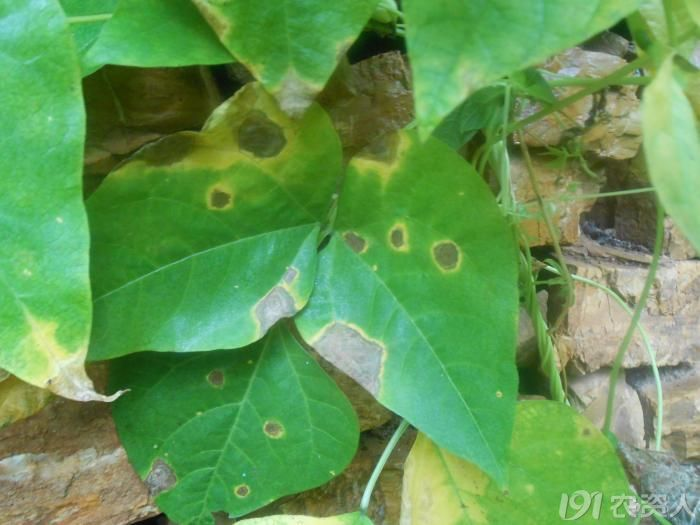Anthrax: (58, 81, 343, 362), (305, 131, 521, 491), (112, 312, 360, 525)
